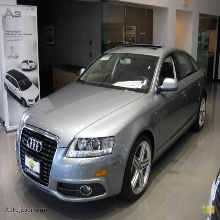no damage: (15, 43, 208, 201)
